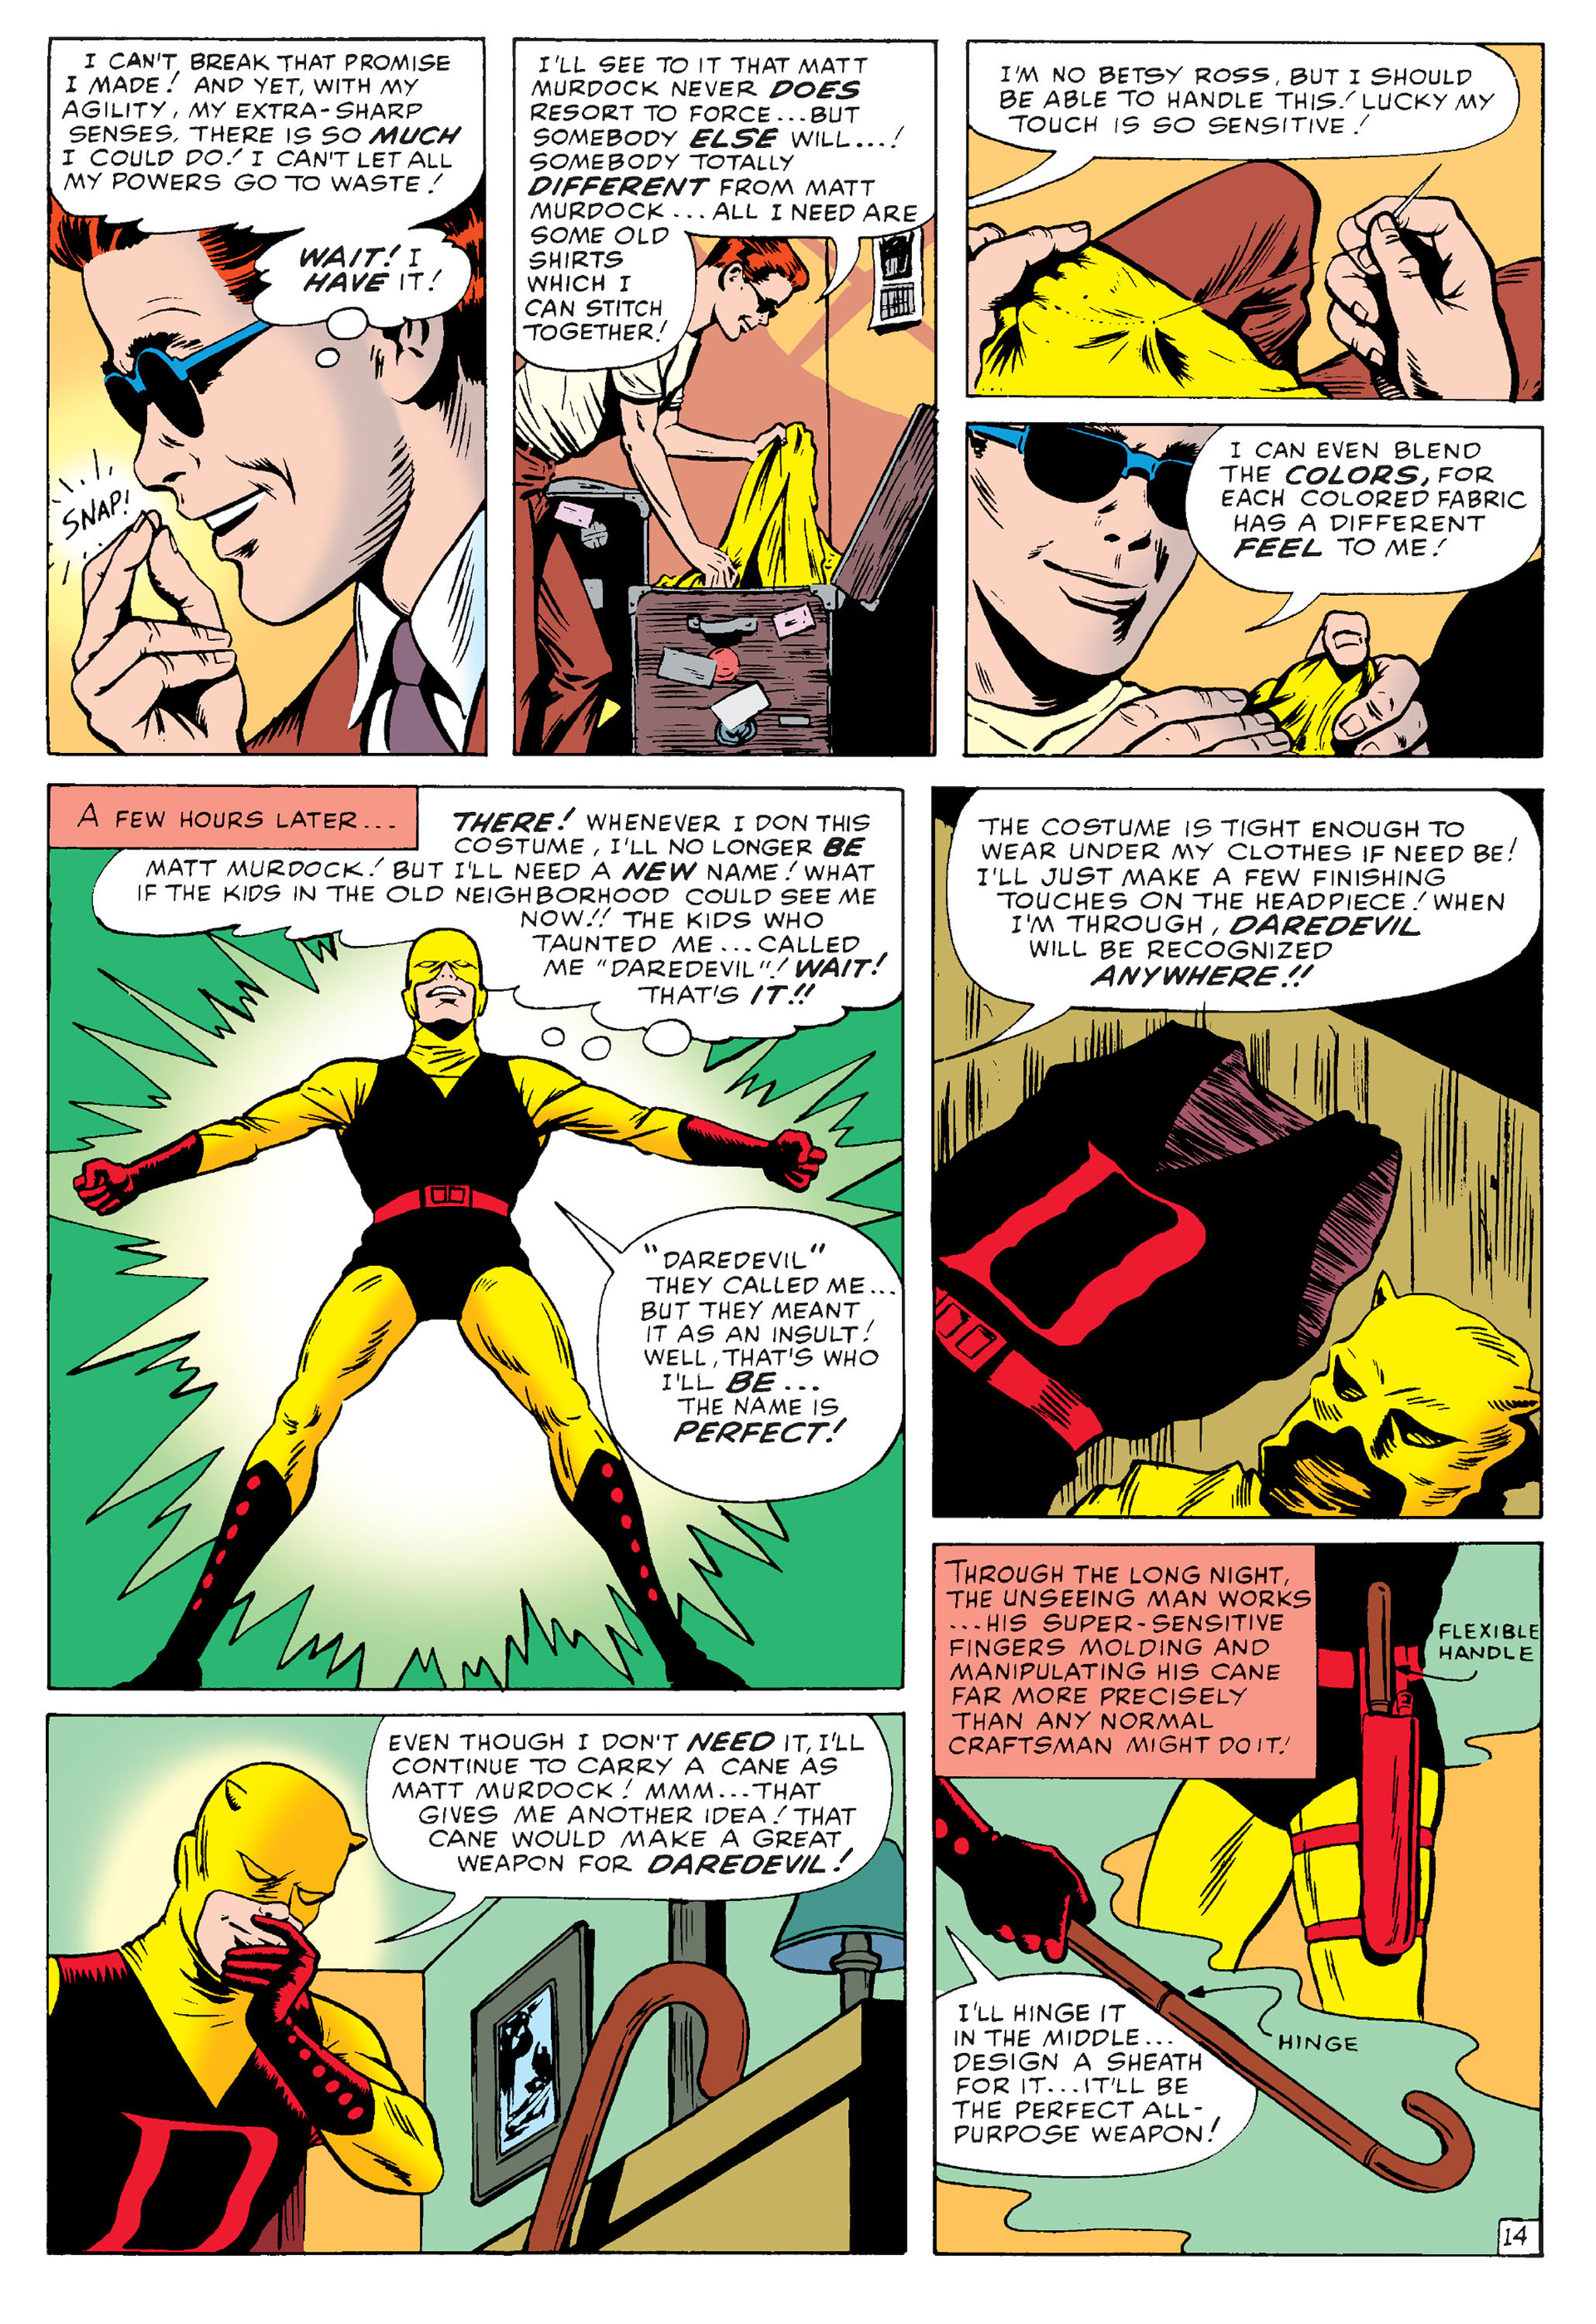Baloon: (106, 793, 907, 1056), (952, 789, 1540, 1056), (517, 41, 937, 367), (365, 1711, 893, 1941), (568, 1204, 911, 1505), (932, 1542, 1315, 1780), (51, 44, 484, 226), (937, 1939, 1252, 2188), (48, 782, 424, 849), (265, 226, 466, 341)
Vignetta: (48, 786, 900, 1686), (48, 1711, 907, 2260), (929, 782, 1543, 1519), (937, 1547, 1543, 2260), (44, 34, 496, 756), (521, 34, 932, 756), (969, 30, 1540, 403), (966, 420, 1543, 756)
